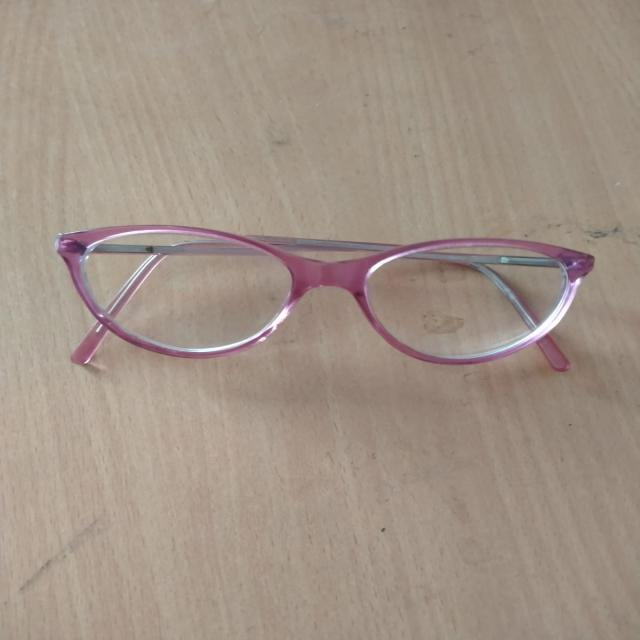Glasses: (50, 211, 590, 380)
